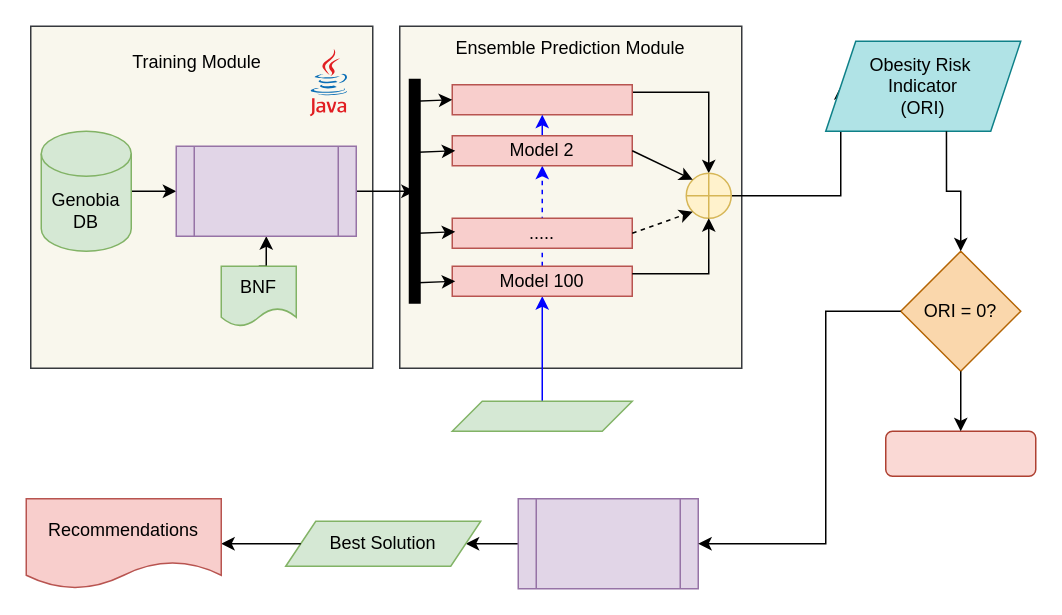
Some shapes in this 1062 by 615 pixel diagram are drawn without their labels. The shapes that lost their labels are listed below. From the top down, each one's centre as x and y in pixels, then its label:
At point (541, 99): "Model 1".
At point (265, 190): "Grammatical Model Tool".
At point (541, 415): "Individual data".
At point (960, 453): "END".
At point (607, 543): "Genetic Algorithm Optimization".
